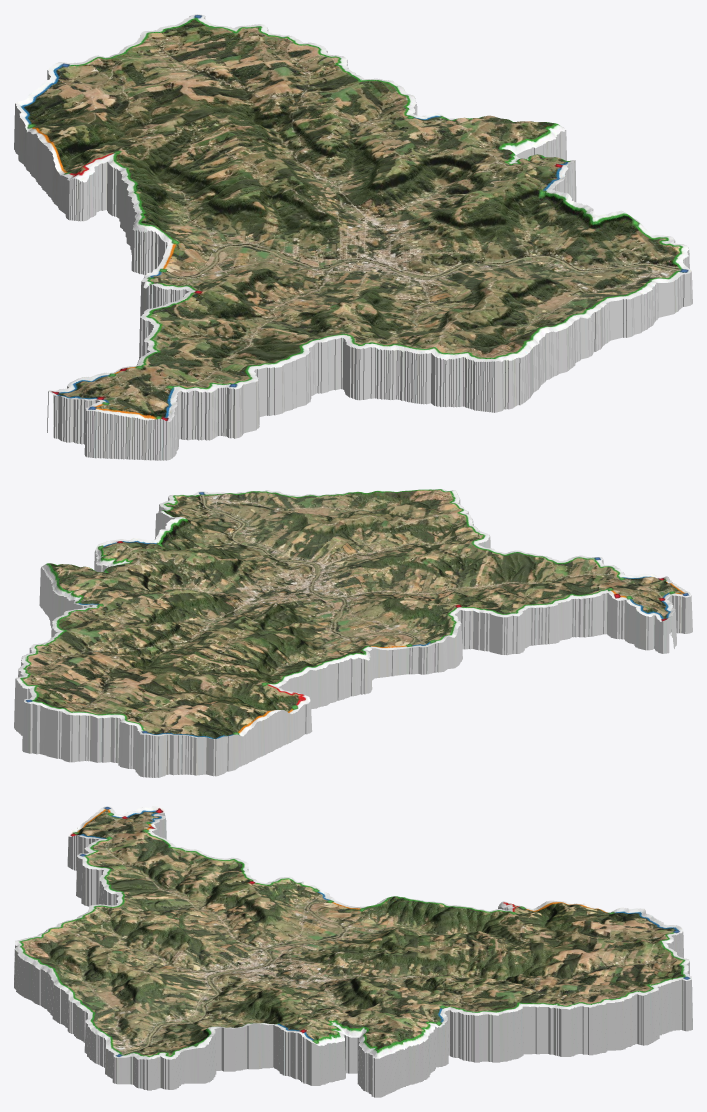
3 views of the same model, one above another, from view 1: azimuth 30°, elevation 25°; view 2: azimuth 150°, elevation 25°; view 3: azimuth 270°, elevation 25° (orthographic). The views are drawn at different scales.
Bounding box in the file's own units: 1 × 0.0914 × 1.12.
1 material, 1 textured.
